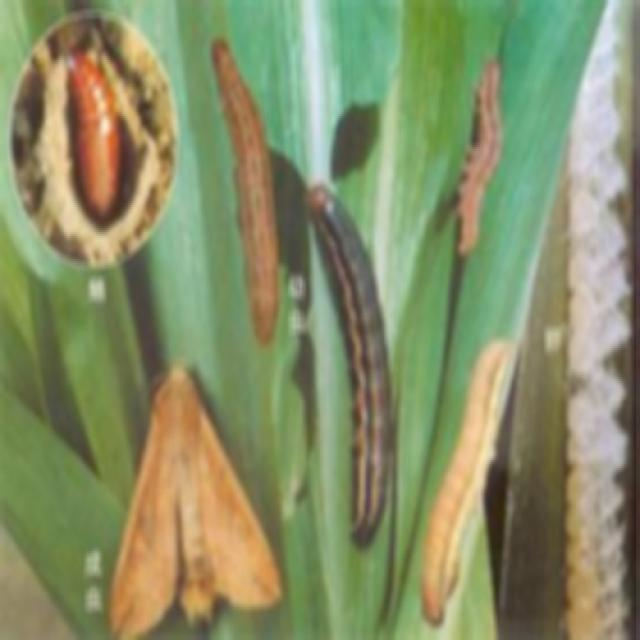army worm: (107, 357, 294, 639), (300, 171, 401, 550), (422, 328, 517, 629), (205, 32, 286, 345), (64, 42, 123, 224), (456, 50, 506, 257)
